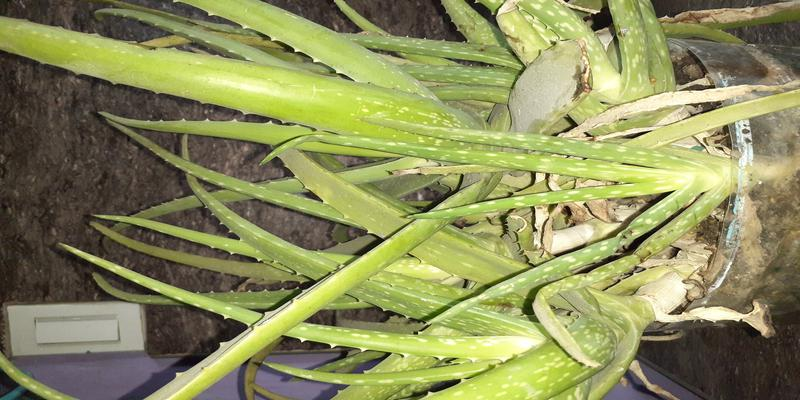Aloevera: (110, 6, 723, 374)
